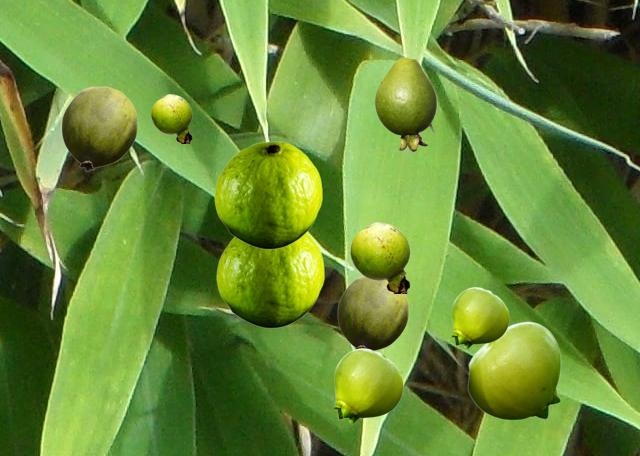guava: (214, 141, 321, 248), (216, 233, 323, 327), (467, 321, 560, 419), (61, 86, 137, 170), (375, 57, 435, 150), (337, 275, 408, 350), (333, 348, 402, 423), (350, 222, 409, 292), (451, 287, 508, 348), (151, 94, 191, 142)
